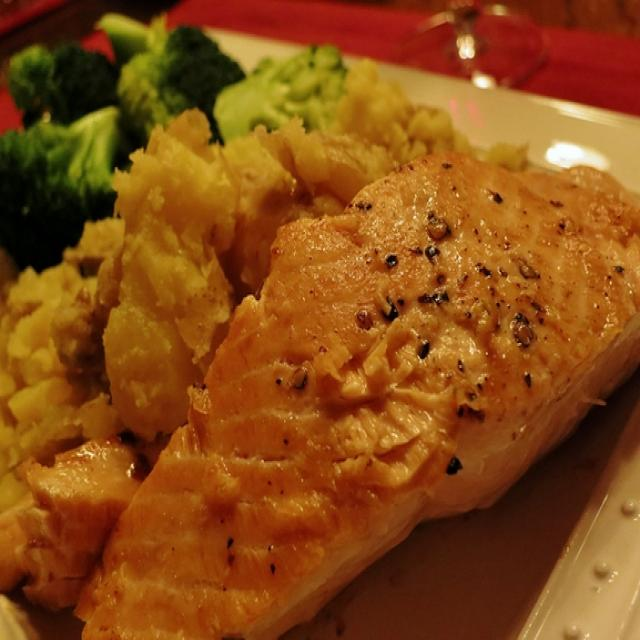熟制海鲜: (21, 31, 626, 612)
